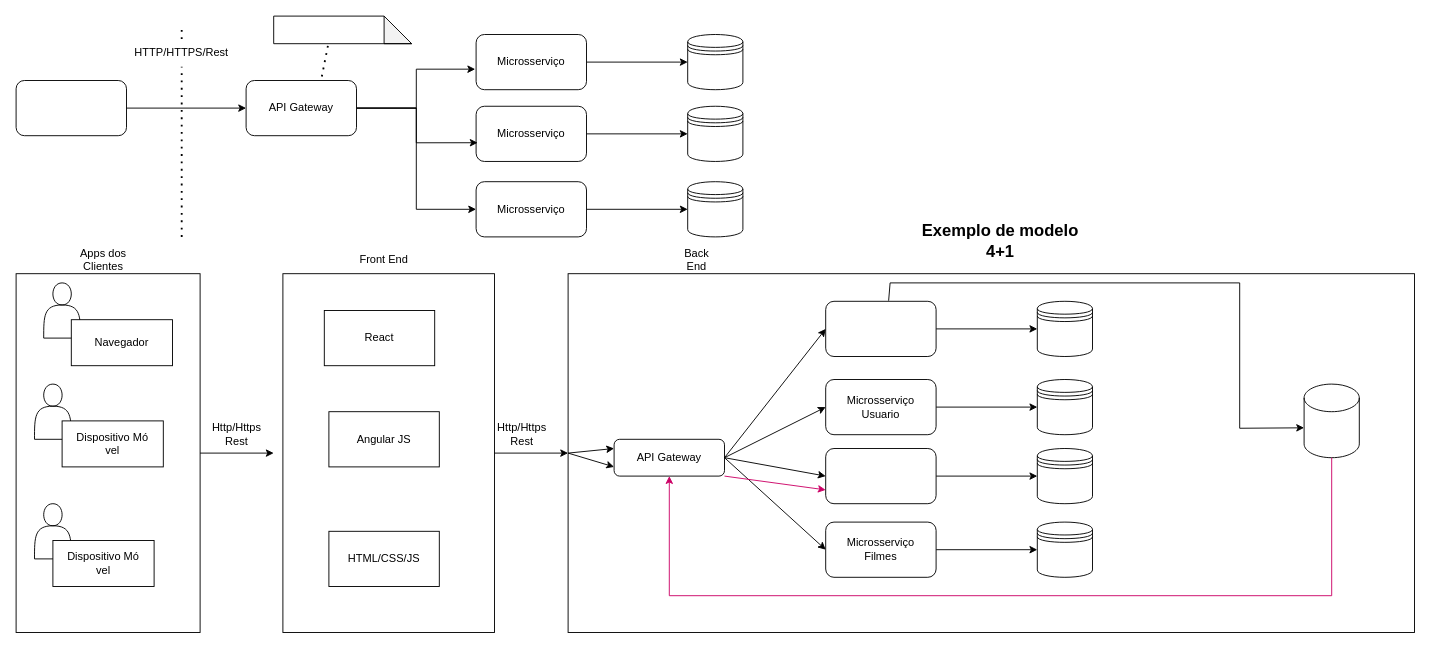
Some shapes in this 1431 by 649 pixel diagram are drawn without their labels. The centre of each missing label's shape, as x and y in pixels:
"Cliente" belongs at (70,108).
"Load Bacancer" belongs at (342,29).
"Message Broker" belongs at (1331,420).
"Microsserviço Lista" belongs at (880,328).
"Microsserviço Series" belongs at (880,476).
